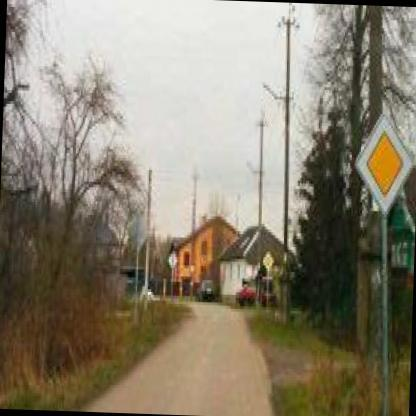road_sign: (357, 115, 412, 214), (262, 251, 275, 274)
